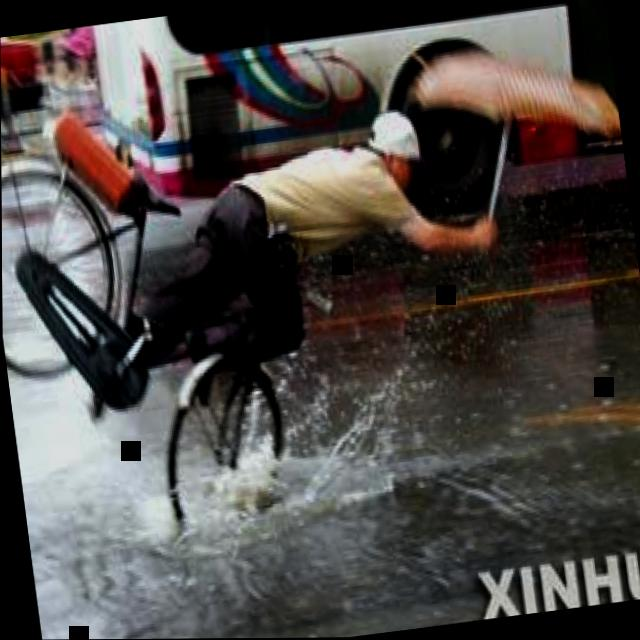Fall-Detected: (73, 60, 509, 394)
